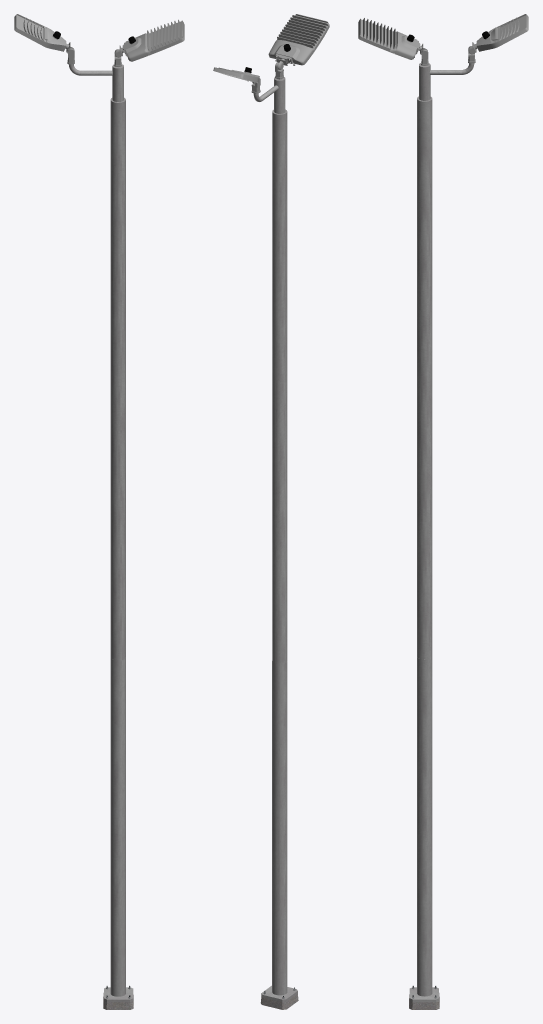
3 renders of one model, left to right at view 1: azimuth 90°, elevation 25°; view 2: azimuth 150°, elevation 25°; view 3: azimuth 270°, elevation 25°, orthographic.
Visible parts, largest first — view 1: Material2 (×3); view 2: Material2 (×4); view 3: Material2 (×3).
Part boxes in pixels (x1=…): Material2 (×3): x1=14, y1=14, x2=184, y2=1002; Material2 (×4): x1=213, y1=14, x2=329, y2=1009; Material2 (×3): x1=358, y1=14, x2=528, y2=1002.
Bounding box in the file's own units: 43.69 × 1085 × 170.
Materials: 17 (5 with a texture image).
